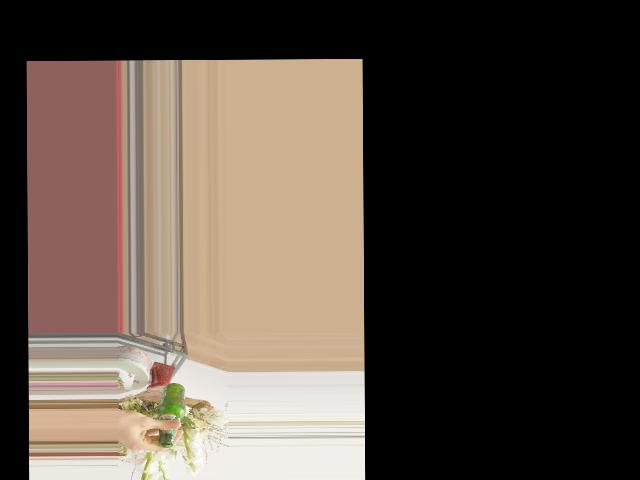beer: (156, 382, 185, 447)
